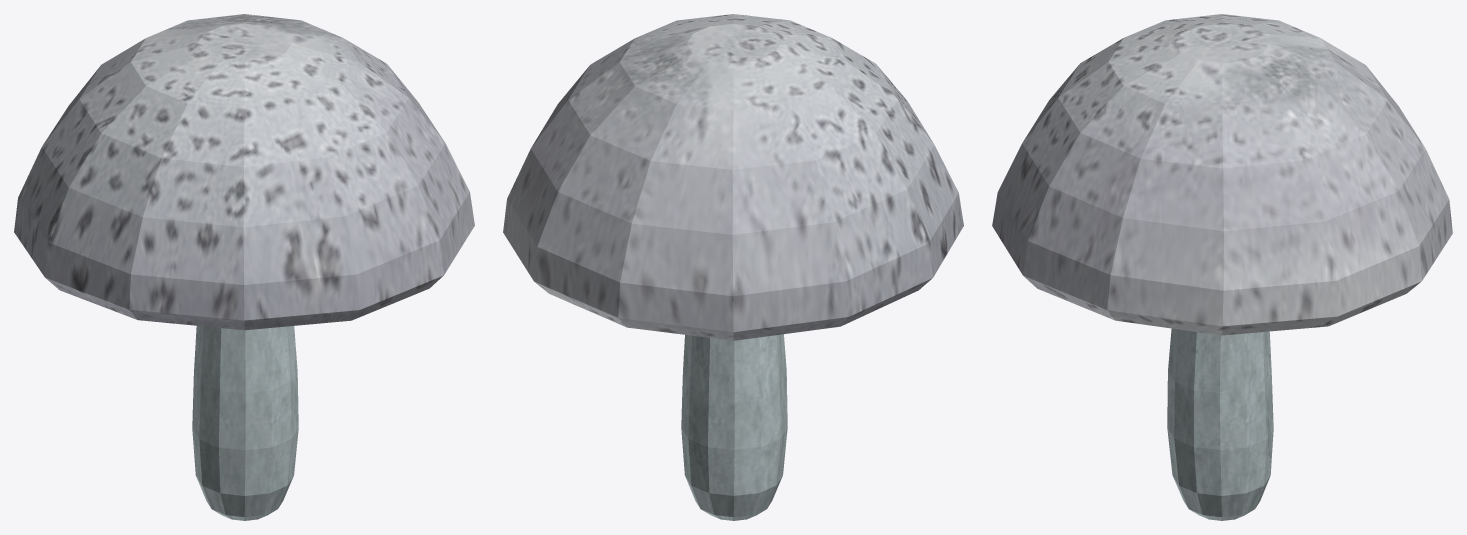
The model's file is Seta.fbx.
The picture shows the model from 3 angles, left to right: view 1: azimuth 30°, elevation 25°; view 2: azimuth 150°, elevation 25°; view 3: azimuth 270°, elevation 25°; orthographic projection.
Visible parts, largest first — view 1: Seta; view 2: Seta; view 3: Seta.
Part boxes in pixels (left/top/right/bottom): Seta: left=14, top=14, right=474, bottom=520; Seta: left=503, top=14, right=963, bottom=520; Seta: left=992, top=14, right=1452, bottom=520.
Size of the model in its own units: 72.48 by 80.93 by 72.44.
